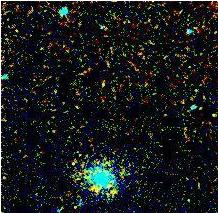star: (59, 146, 89, 176)
